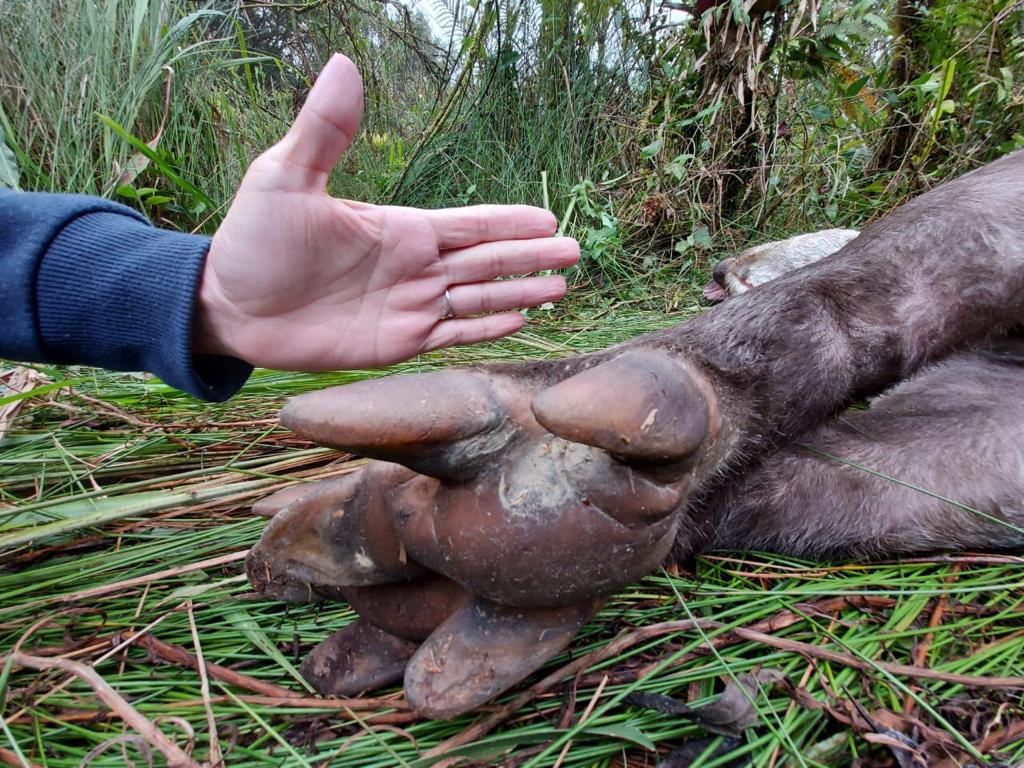Anta: (590, 207, 992, 570)
